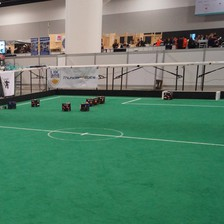goal: (158, 87, 221, 101)
robot: (59, 99, 73, 113), (5, 97, 18, 110), (78, 99, 90, 112), (30, 94, 41, 108), (96, 92, 107, 104), (162, 89, 173, 99), (85, 96, 94, 105), (92, 92, 98, 104)
